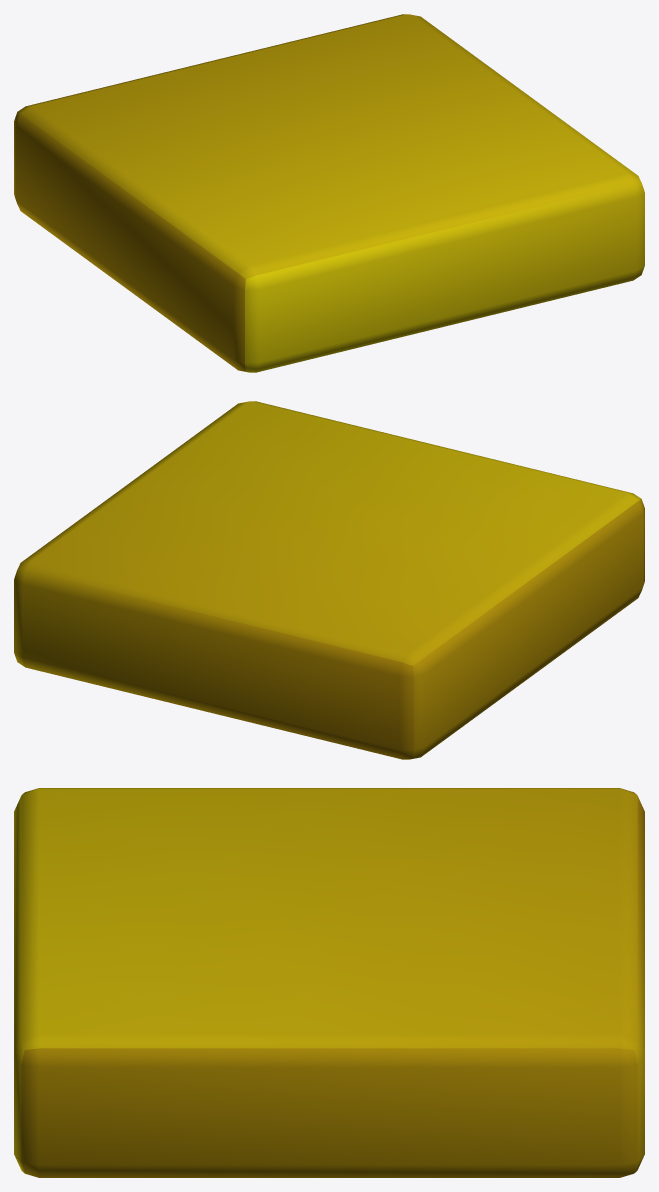
The model's file is TileYellow.fbx.
3 views of the same model, one above another, from view 1: azimuth 30°, elevation 25°; view 2: azimuth 150°, elevation 25°; view 3: azimuth 270°, elevation 25° (orthographic). The views are drawn at different scales.
Parts seen in each view (by area): view 1: Cube.001; view 2: Cube.001; view 3: Cube.001.
Boxes of the visible parts, box(x1,y1,x2,y2) form: Cube.001: box(14, 14, 644, 372); Cube.001: box(14, 401, 644, 759); Cube.001: box(14, 788, 644, 1177).
Size of the model in its own units: 150 by 37.5 by 150.
